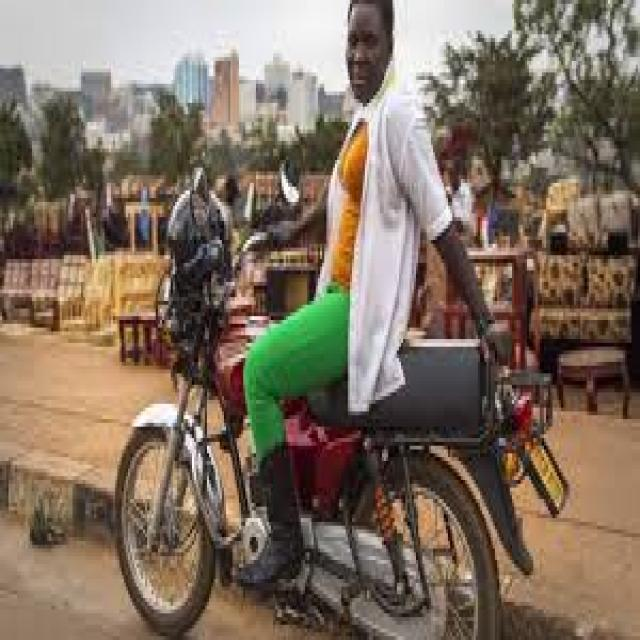bodaboda: (71, 143, 587, 640)
